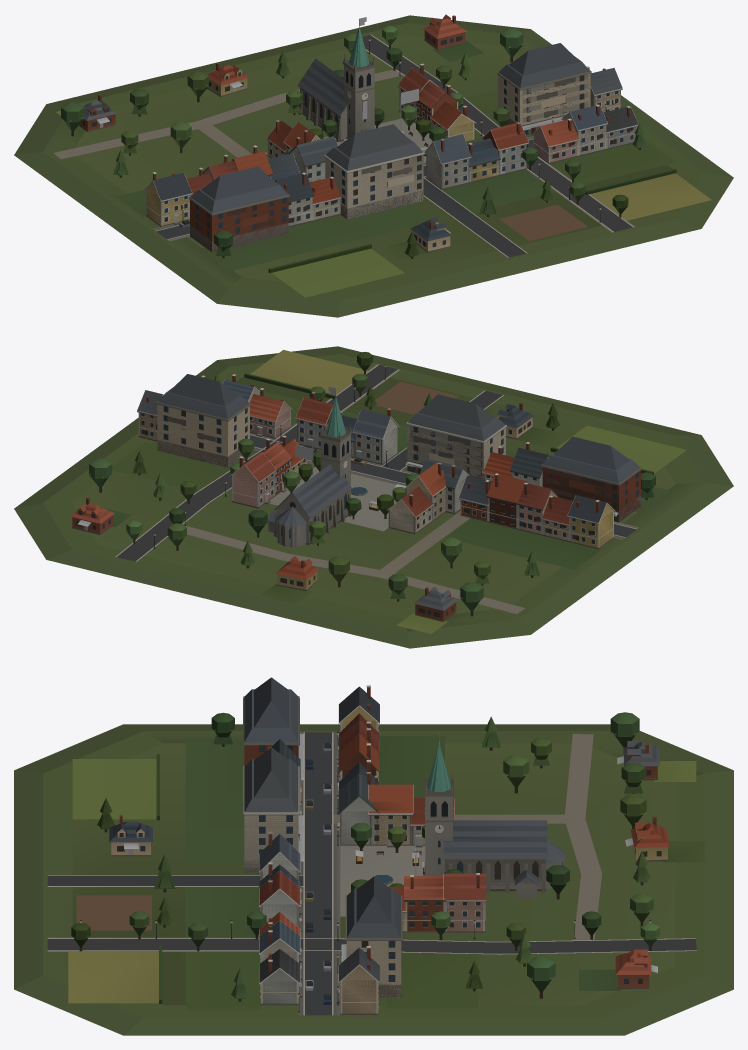
The model's file is city_any_town.glb.
The picture shows the model from 3 angles, top to bottom: view 1: azimuth 30°, elevation 25°; view 2: azimuth 150°, elevation 25°; view 3: azimuth 270°, elevation 25°; orthographic projection. The views are drawn at different scales.
Parts seen in each view (by area): view 1: city_any_town_LOD0_mesh, city_any_town_LOD2_mesh, city_any_town_LOD1_mesh; view 2: city_any_town_LOD0_mesh, city_any_town_LOD2_mesh, city_any_town_LOD1_mesh; view 3: city_any_town_LOD0_mesh, city_any_town_LOD2_mesh, city_any_town_LOD1_mesh.
Part boxes in pixels (box(x1,y1,x2,y2)): city_any_town_LOD0_mesh: box(14, 14, 733, 317); city_any_town_LOD2_mesh: box(38, 21, 709, 303); city_any_town_LOD1_mesh: box(64, 31, 645, 256); city_any_town_LOD0_mesh: box(14, 346, 733, 648); city_any_town_LOD2_mesh: box(38, 353, 709, 634); city_any_town_LOD1_mesh: box(72, 362, 653, 620); city_any_town_LOD0_mesh: box(14, 685, 733, 1035); city_any_town_LOD2_mesh: box(38, 703, 709, 1020); city_any_town_LOD1_mesh: box(74, 677, 667, 1012).
Size of the model in its own units: 176 by 40.89 by 172.
